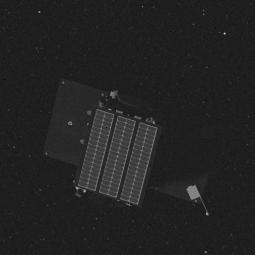proba_2: (65, 79, 209, 209)
